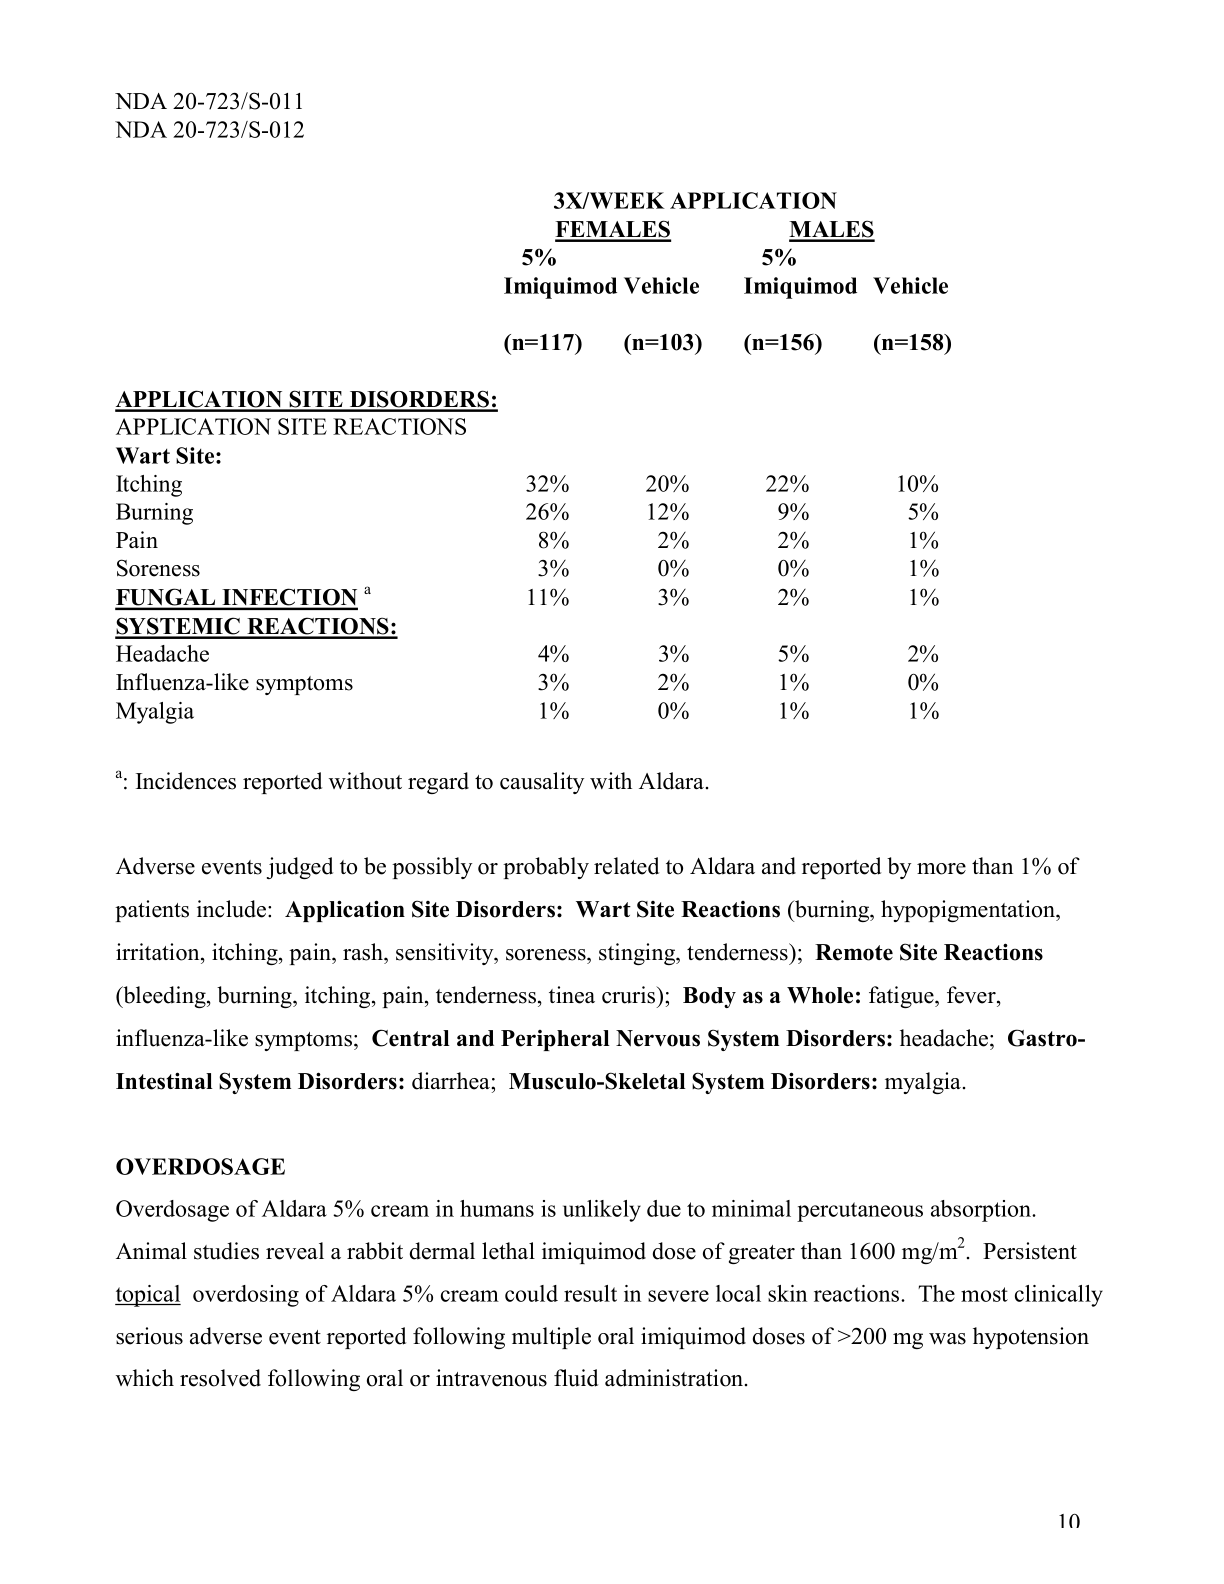nolines: (111, 186, 957, 726)
